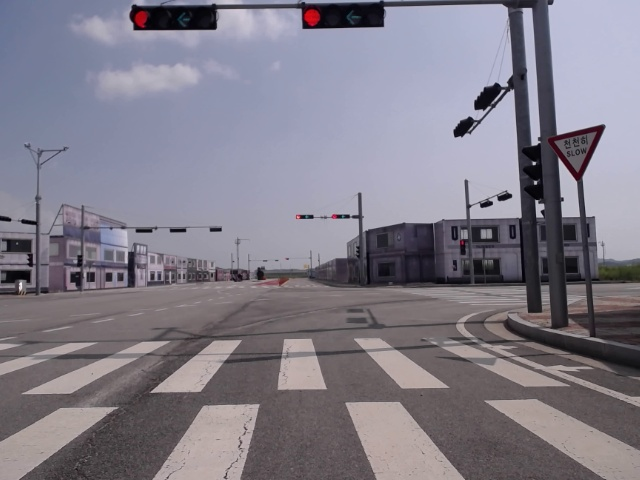left_green_4: (130, 7, 216, 29), (302, 5, 382, 27)
